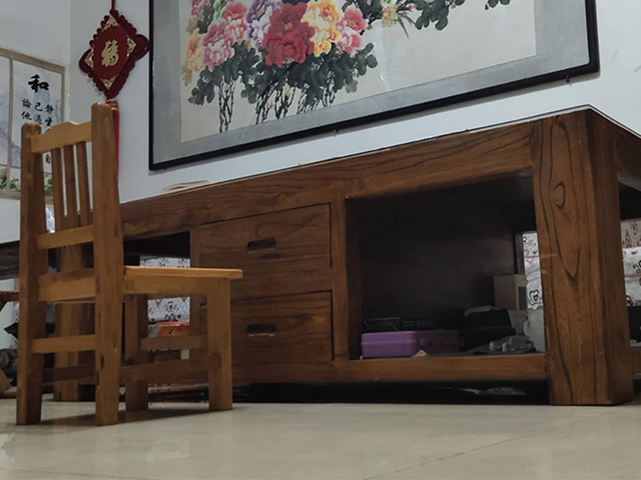stool: (15, 101, 245, 427)
table: (54, 101, 641, 409)
